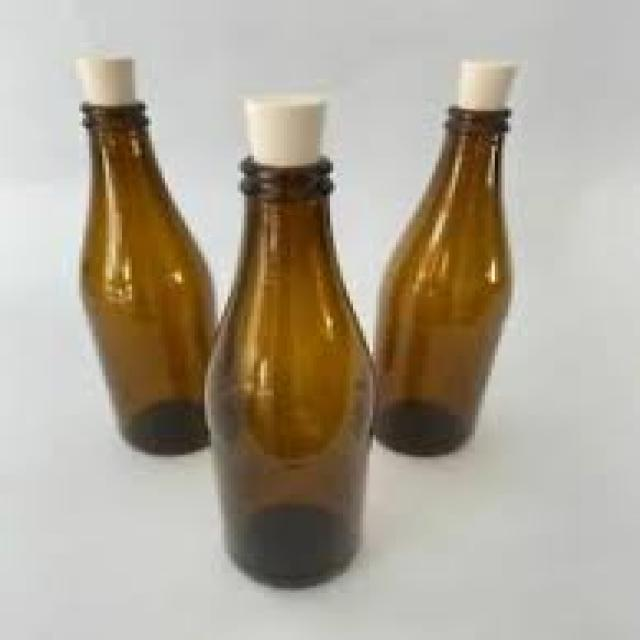glass: (82, 101, 508, 583)
